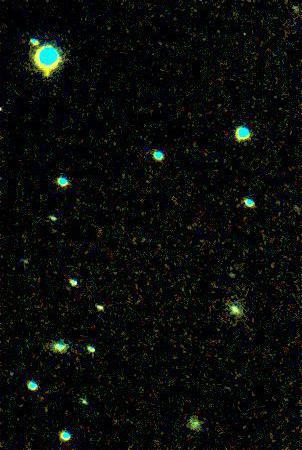star: (30, 58, 60, 88)
